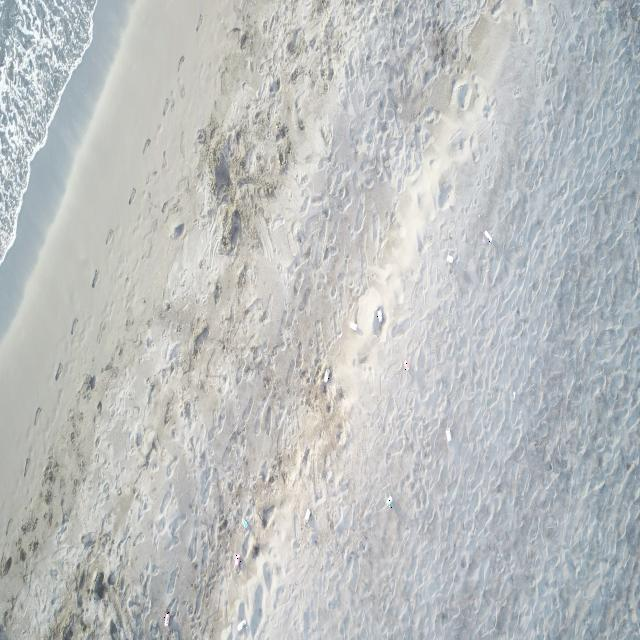tin-and-aluminum-cans: (237, 618, 247, 632), (483, 230, 493, 243), (445, 428, 452, 443), (349, 321, 358, 332), (234, 554, 241, 568), (304, 508, 311, 522), (386, 495, 393, 508), (377, 308, 383, 323), (324, 368, 330, 383), (164, 612, 170, 627), (404, 358, 410, 372), (446, 254, 454, 264), (242, 518, 248, 529)
